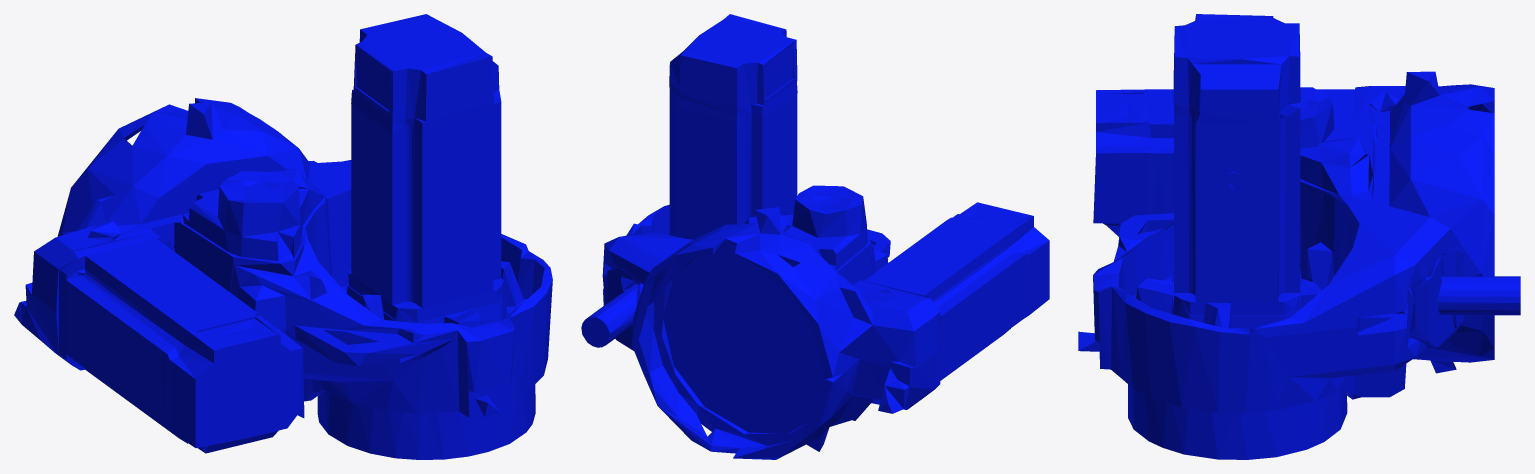
Rendered from ABBIRB2600Link1.dae.
3 renders of one model, left to right at view 1: azimuth 30°, elevation 25°; view 2: azimuth 150°, elevation 25°; view 3: azimuth 270°, elevation 25°, orthographic. The views are drawn at different scales.
Parts seen in each view (by area): view 1: link1; view 2: link1; view 3: link1.
Boxes of the visible parts, x1=… form: link1: x1=14, y1=14, x2=552, y2=459; link1: x1=581, y1=14, x2=1049, y2=459; link1: x1=1078, y1=14, x2=1520, y2=459.
Bounding box in the file's own units: 0.4935 × 0.454 × 0.4289.
